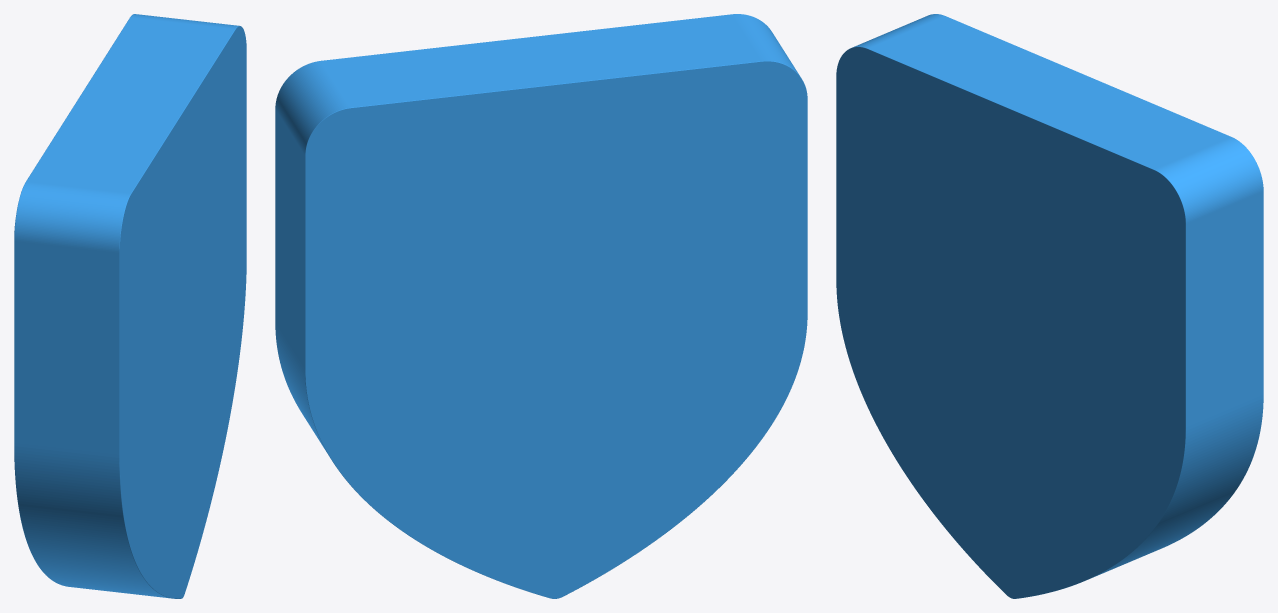
The model's file is shield.gltf.
3 renders of one model, left to right at view 1: azimuth 30°, elevation 25°; view 2: azimuth 150°, elevation 25°; view 3: azimuth 270°, elevation 25°, orthographic. The views are drawn at different scales.
Size of the model in its own units: 76.16 by 96.16 by 76.16.
